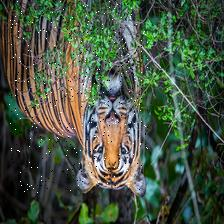tiger: (9, 0, 148, 193)
